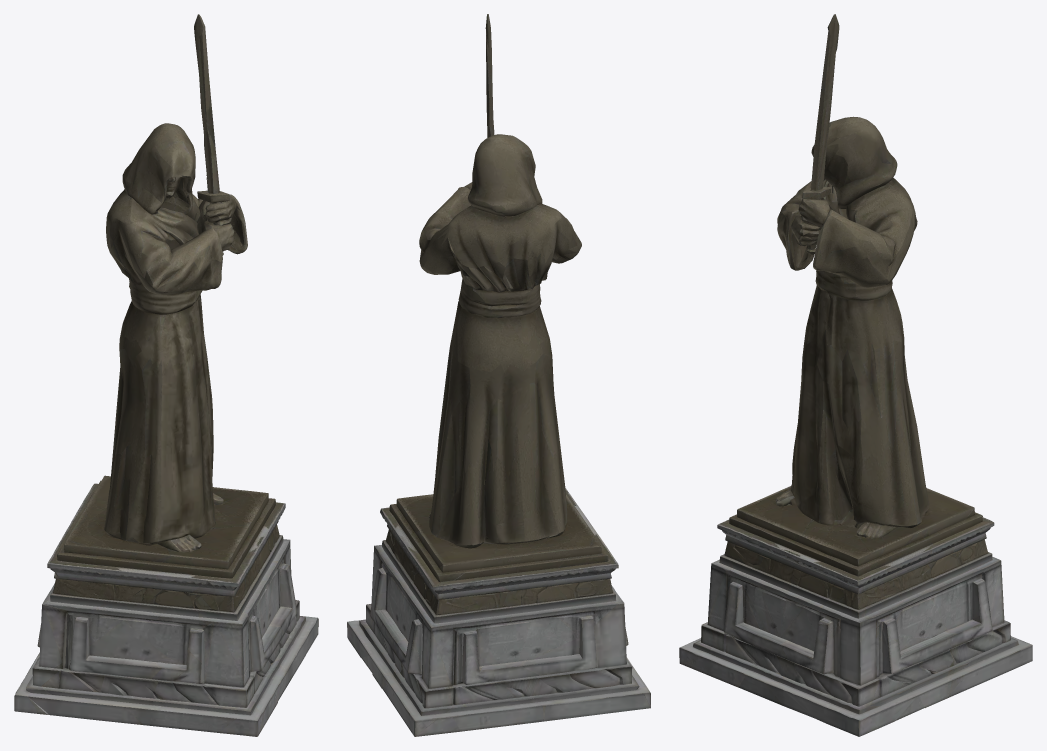
Rendered from statue.glb.
3 renders of one model, left to right at view 1: azimuth 30°, elevation 25°; view 2: azimuth 150°, elevation 25°; view 3: azimuth 270°, elevation 25°, orthographic. The views are drawn at different scales.
Parts seen in each view (by area): view 1: statue-centred; view 2: statue-centred; view 3: statue-centred.
Part boxes in pixels (x1=…): statue-centred: x1=14, y1=14, x2=318, y2=736; statue-centred: x1=347, y1=14, x2=650, y2=736; statue-centred: x1=679, y1=14, x2=1032, y2=736.
Bounding box in the file's own units: 13.62 × 28 × 13.6.
1 material, 1 textured.
